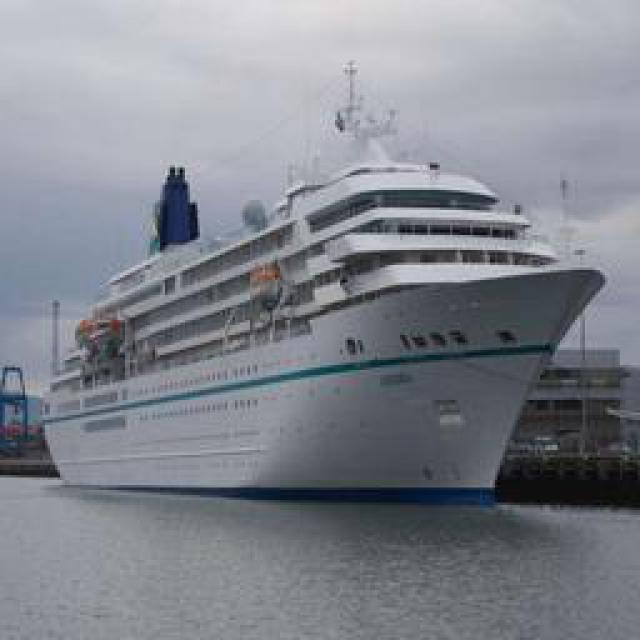Ship: (44, 141, 604, 504)
